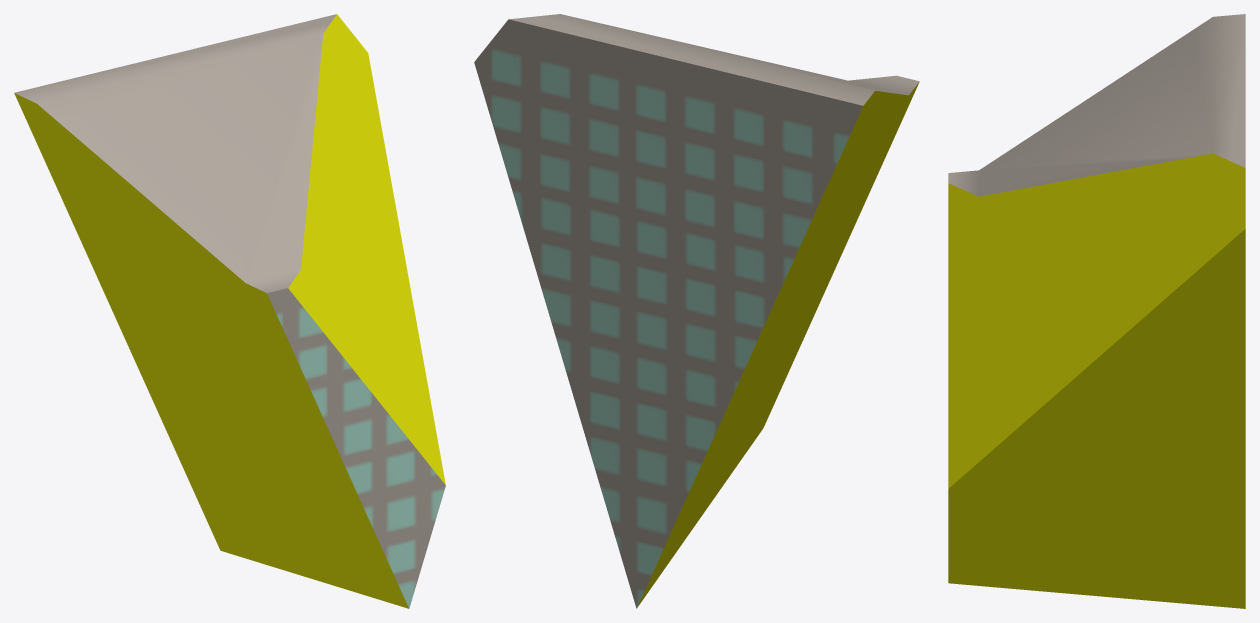
File: c2Shard3.fbx
3 views of the same model, side by side, from view 1: azimuth 30°, elevation 25°; view 2: azimuth 150°, elevation 25°; view 3: azimuth 270°, elevation 25° (orthographic). The views are drawn at different scales.
Parts seen in each view (by area): view 1: shard71; view 2: shard71; view 3: shard71.
Boxes of the visible parts, <box> form: shard71: <box>14,14,445,608</box>; shard71: <box>474,14,919,608</box>; shard71: <box>948,14,1245,608</box>.
Bounding box in the file's own units: 0.1232 × 0.1689 × 0.0917.
Materials: 2 (1 with a texture image).
